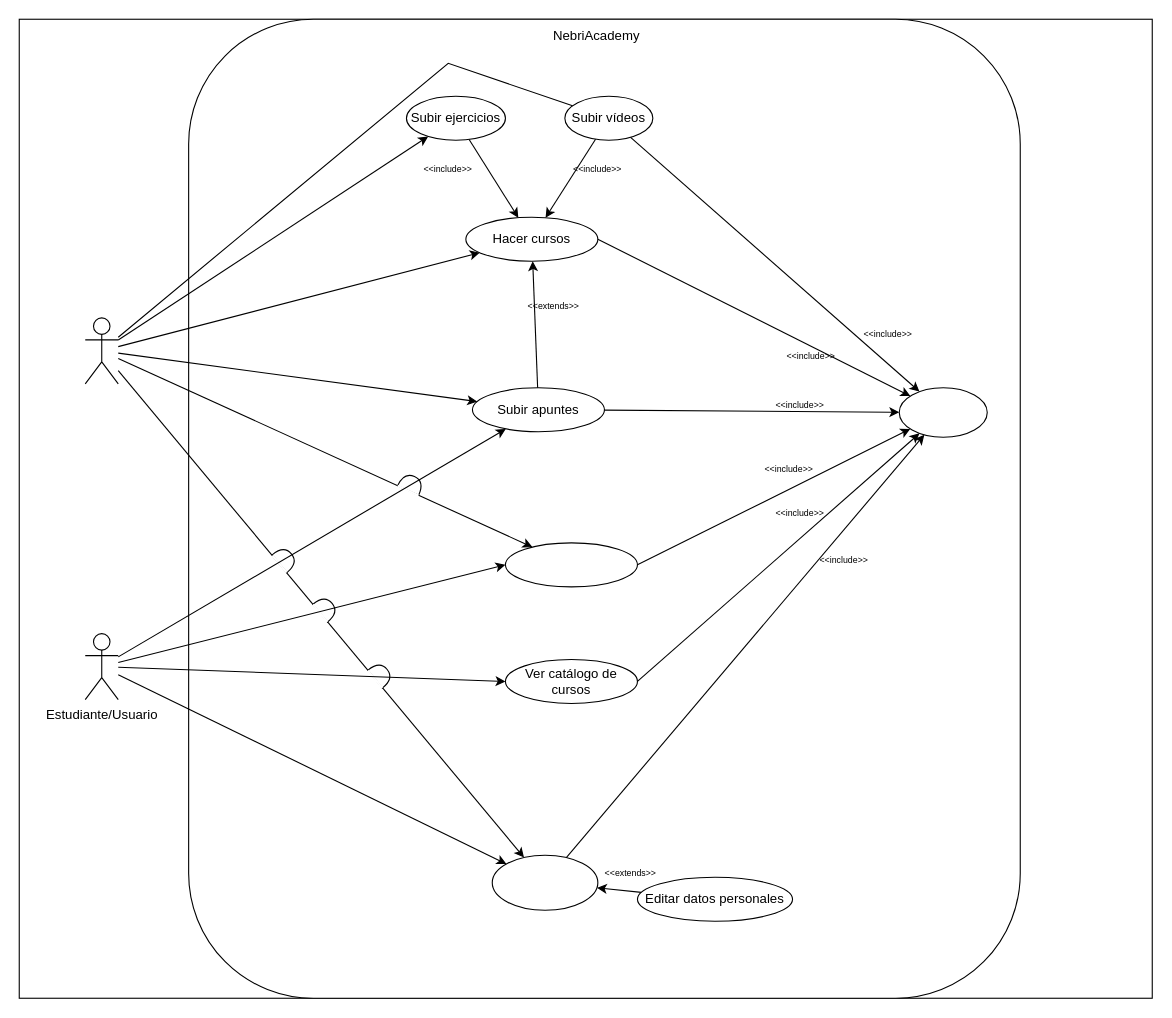
Image size: 1172x1018. Some labels were removed from this diagram. Each missing label, with the centre of its shape:
"Login" goes at [942,412].
"Profesor/Usuario" goes at [101,350].
"Ver apuntes" goes at [570,564].
"Ver perfil" goes at [544,882].
